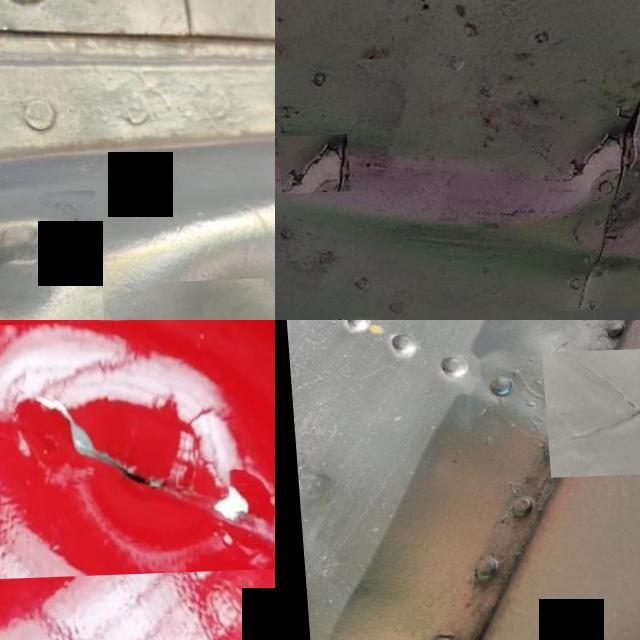Crack: (0, 320, 275, 584), (538, 344, 640, 479), (275, 135, 344, 194)
Dent: (275, 49, 640, 320), (0, 192, 99, 320), (151, 281, 275, 320)
